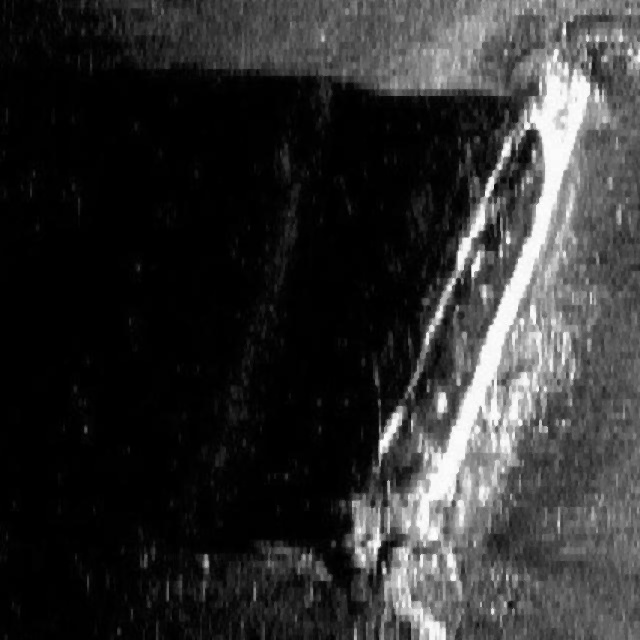Ship: (325, 44, 594, 625)
